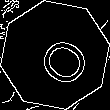O_NW: (22, 23, 88, 87)
